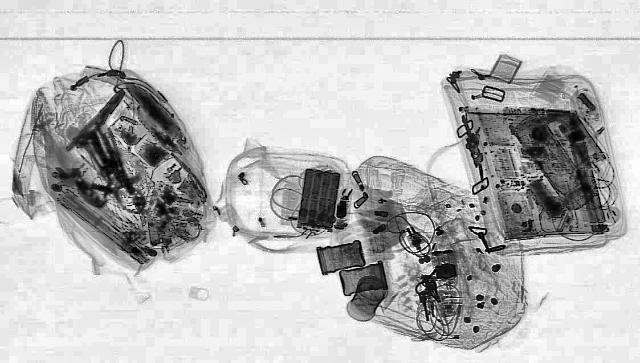Pliers: (64, 87, 130, 151)
